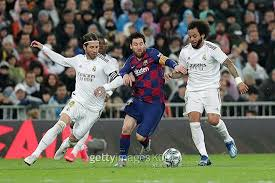barcelona: (115, 40, 184, 167)
realmadrid: (11, 22, 122, 163), (172, 19, 249, 167)
